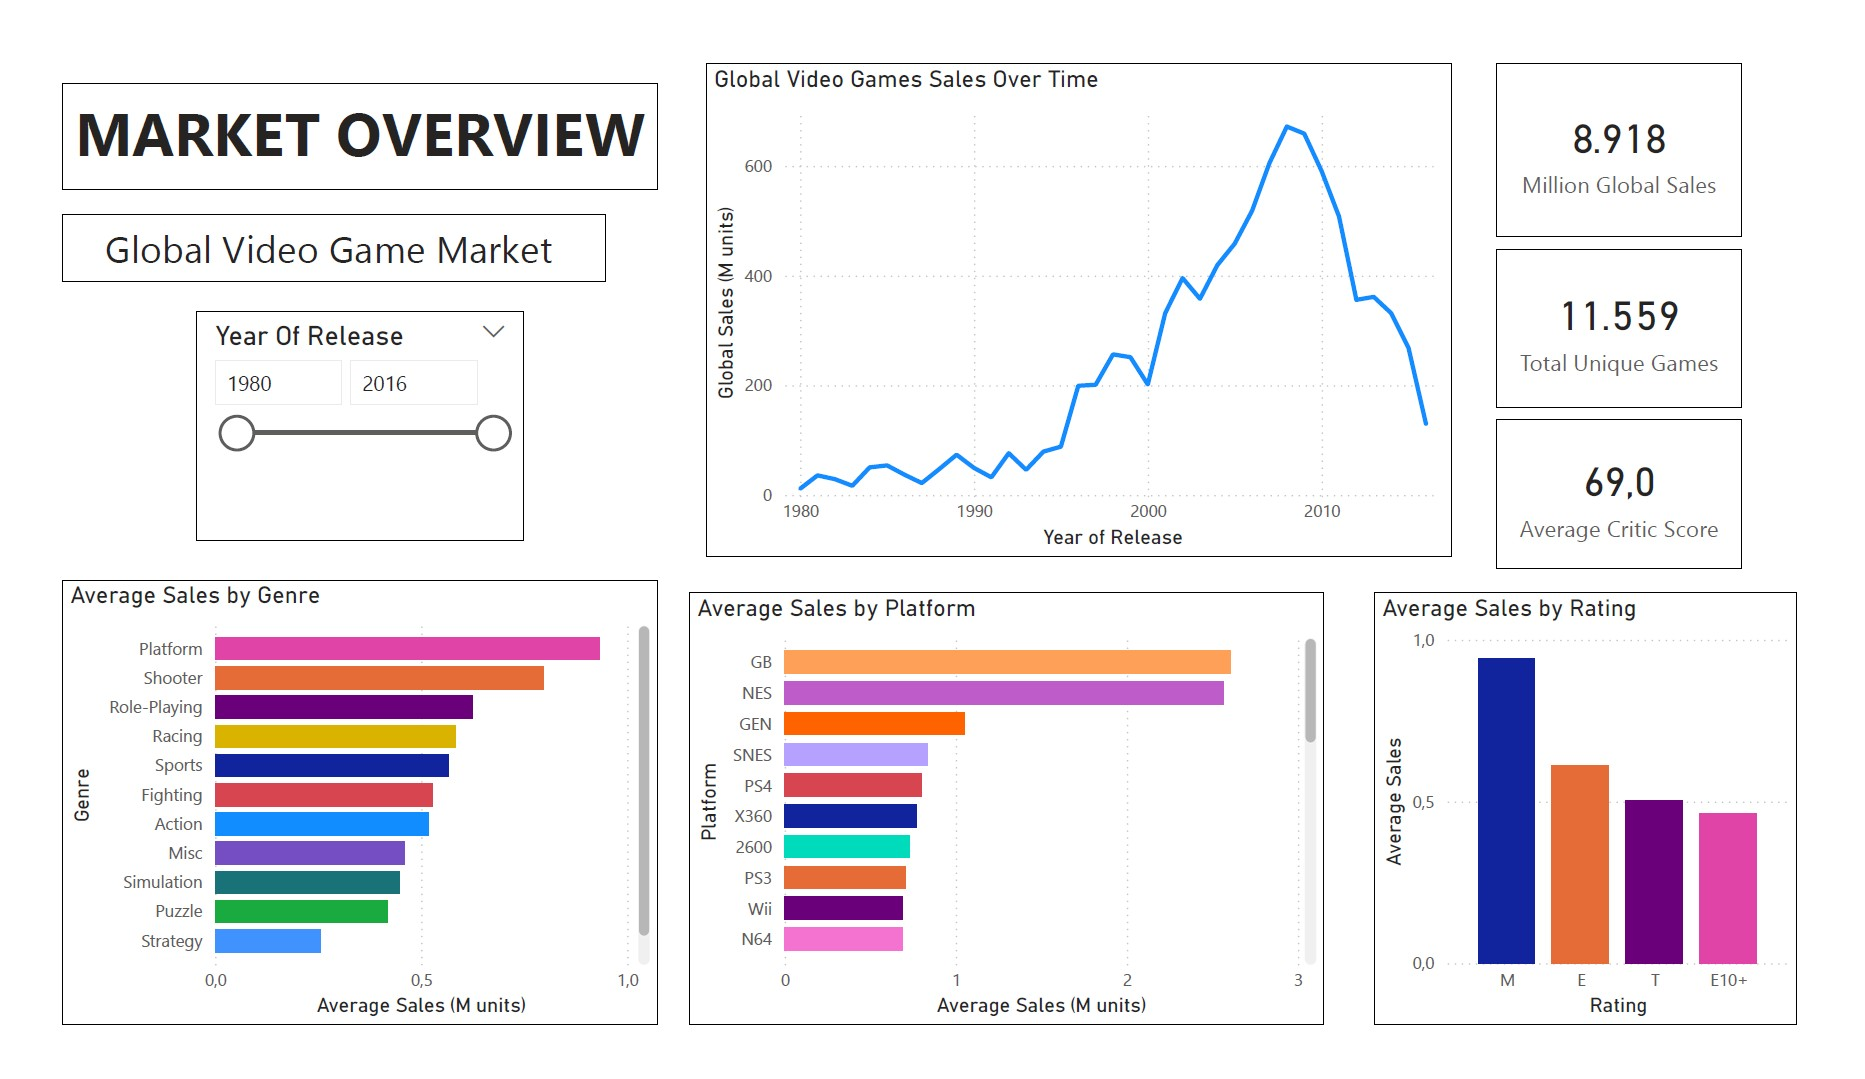

This screenshot's page, from the dashboard's own definition file:
{"tool":"powerbi","page":{"name":"Market Overview","canvas":[1280,720],"ordinal":0},"visuals":[{"type":"lineChart","title":"Global Video Games Sales Over Time","fields":{"Category":["videogames_final.Year_of_Release"],"Y":["Sum(videogames_final.Global_Sales)"]},"box":[478,21,531,351],"z":0},{"type":"barChart","title":"Average Sales by Genre","fields":{"Category":["videogames_final.Genre"],"Y":["Avg(videogames_final.Global_Sales)"],"Series":["videogames_final.Genre"]},"box":[20,388,424,317],"z":1000},{"type":"card","fields":{"Values":["Count(videogames_final.Name)"]},"box":[1040,153,175,113],"z":2000},{"type":"card","fields":{"Values":["Sum(videogames_final.Global_Sales)"]},"box":[1040,21,175,124],"z":3000},{"type":"card","fields":{"Values":["Avg(videogames_final.Critic_Score)"]},"box":[1040,274,175,107],"z":4000},{"type":"textbox","box":[20,35,424,76],"z":5000},{"type":"textbox","box":[20,128,387,49],"z":6000},{"type":"barChart","title":"Average Sales by Platform","fields":{"Category":["videogames_final.Platform"],"Y":["Avg(videogames_final.Global_Sales)"],"Series":["videogames_final.Platform"]},"box":[466,397,452,308],"z":7000},{"type":"slicer","fields":{"Values":["videogames_final.Year_of_Release"]},"box":[115,197,234,164],"z":8000},{"type":"columnChart","title":"Average Sales by Rating","fields":{"Category":["videogames_final.Rating"],"Y":["Avg(videogames_final.Global_Sales)"],"Series":["videogames_final.Rating"]},"box":[953,397,301,308],"z":9000}]}

Visuals, with their boxes in screenshot pixels (x1, y1, x2, y2), scaled from the page's 1280x720 canvas onto the 1865x1079 screenshot:
"Global Video Games Sales Over Time" lineChart: [696, 31, 1470, 557]
"Average Sales by Genre" barChart: [29, 581, 647, 1057]
card - Count(videogames_final.Name): [1515, 229, 1770, 399]
card - Sum(videogames_final.Global_Sales): [1515, 31, 1770, 217]
card - Avg(videogames_final.Critic_Score): [1515, 411, 1770, 571]
textbox: [29, 52, 647, 166]
textbox: [29, 192, 593, 265]
"Average Sales by Platform" barChart: [679, 595, 1338, 1057]
slicer - videogames_final.Year_of_Release: [168, 295, 509, 541]
"Average Sales by Rating" columnChart: [1389, 595, 1827, 1057]
